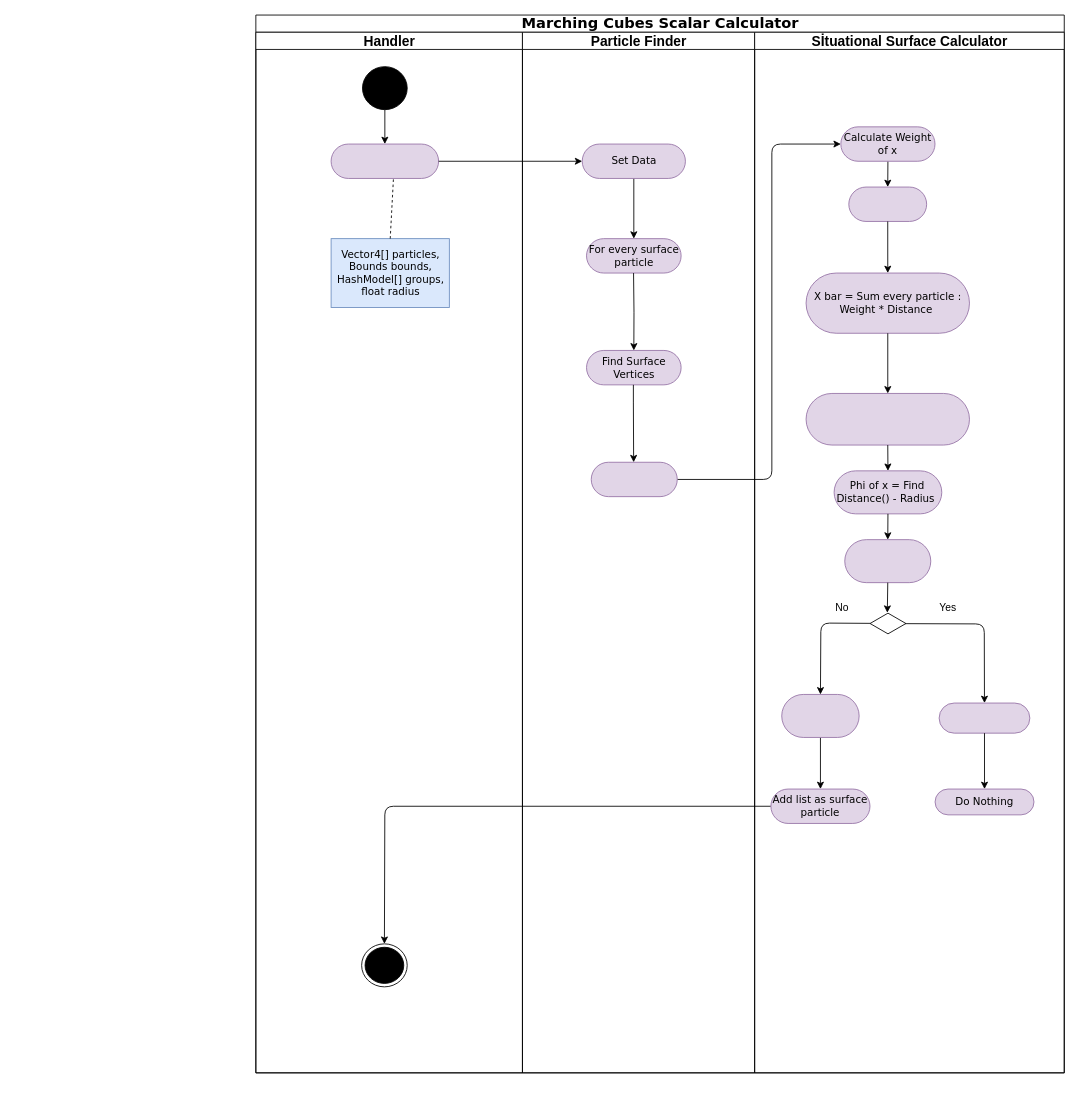
The diagram is 1079 pixels wide and 1117 high, and some of its shapes have lost their labels. The centre of each missing label's shape, as x and y in pixels:
bool Marching= True;: [984,717]
Find Neighbour Particles: [633,479]
For every neighbour particles:: [887,203]
Is phi of x > Marching Value: [887,561]
Marching= False;: [820,715]
Send particles, bounds, groups, radius: [384,160]
WeightedConstant += findKernel(distance / searchRadius): [887,419]
